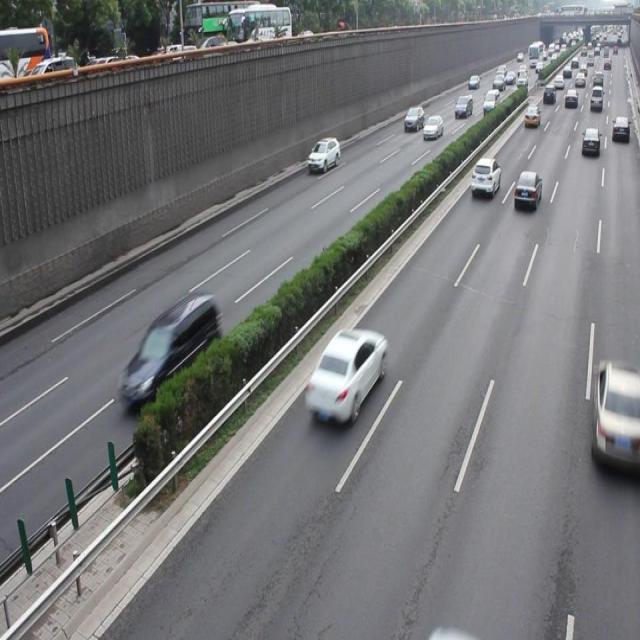car: (303, 326, 386, 425), (589, 357, 640, 475), (307, 135, 340, 174), (469, 155, 499, 196), (512, 169, 540, 210)
truck: (120, 291, 220, 411)
